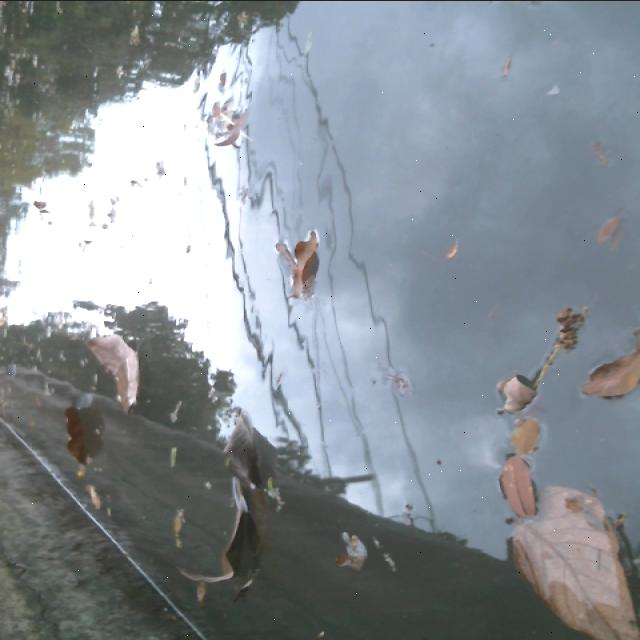Big-leaf: (523, 494, 640, 640), (202, 423, 279, 592), (81, 326, 157, 413), (57, 404, 90, 476)
Small-leaf: (533, 302, 586, 376), (285, 235, 327, 318), (583, 342, 640, 395), (488, 462, 544, 513), (495, 411, 546, 458), (487, 371, 541, 413), (210, 99, 249, 152), (593, 208, 627, 258), (336, 536, 384, 571), (21, 196, 63, 230), (162, 508, 189, 558), (374, 365, 419, 395), (586, 140, 619, 165), (166, 395, 190, 425), (147, 160, 171, 188), (441, 235, 463, 265), (84, 483, 109, 509), (122, 25, 148, 48), (160, 448, 183, 465)
